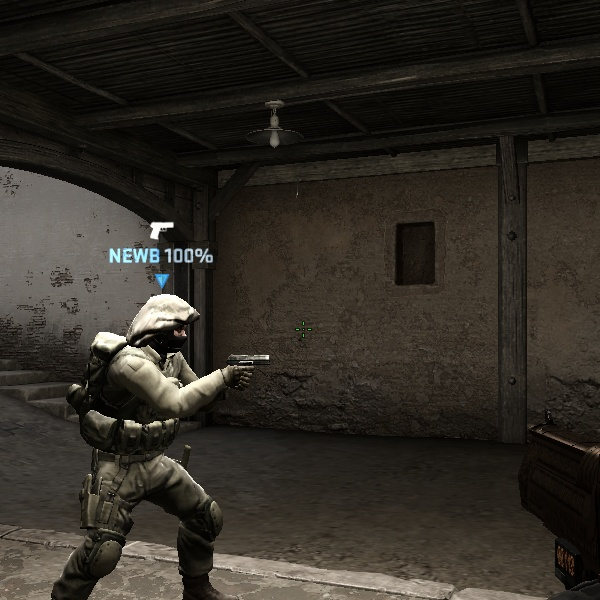ct_body: (59, 291, 253, 600)
ct_head: (133, 297, 203, 368)
